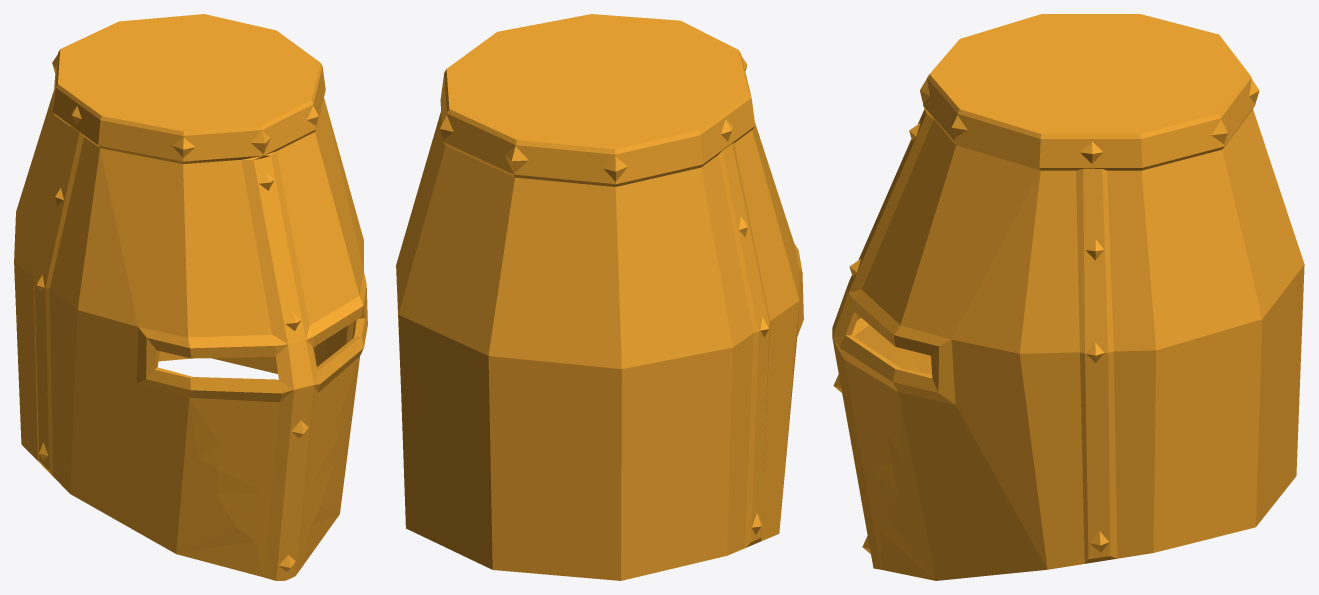
File: SM_Helmet_Great_Helm_A.fbx
The picture shows the model from 3 angles, left to right: view 1: azimuth 30°, elevation 25°; view 2: azimuth 150°, elevation 25°; view 3: azimuth 270°, elevation 25°; orthographic projection. The views are drawn at different scales.
Visible parts, largest first — view 1: helmet-great-helm-a; view 2: helmet-great-helm-a; view 3: helmet-great-helm-a.
Part boxes in pixels (left/top/right/bottom): helmet-great-helm-a: left=14, top=14, right=367, bottom=580; helmet-great-helm-a: left=396, top=14, right=803, bottom=580; helmet-great-helm-a: left=832, top=14, right=1304, bottom=580.
Bounding box in the file's own units: 0.2234 × 0.3099 × 0.2695.
